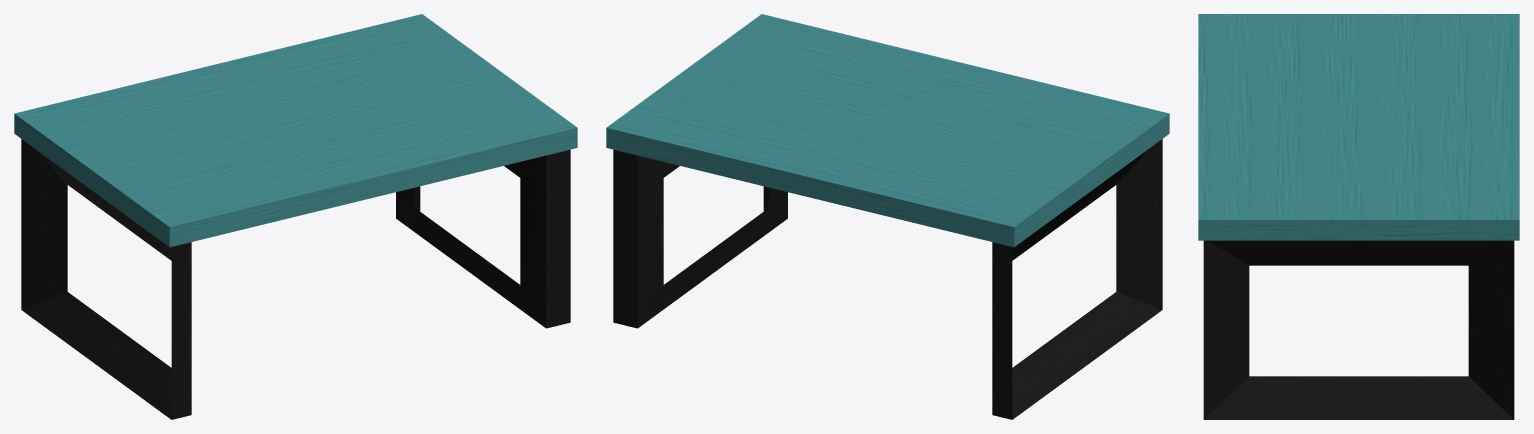
File: Desk_C.FBX
3 renders of one model, left to right at view 1: azimuth 30°, elevation 25°; view 2: azimuth 150°, elevation 25°; view 3: azimuth 270°, elevation 25°, orthographic. The views are drawn at different scales.
Parts seen in each view (by area): view 1: Desk; view 2: Desk; view 3: Desk.
Boxes of the visible parts, x1=… form: Desk: x1=14, y1=14, x2=577, y2=419; Desk: x1=606, y1=14, x2=1169, y2=419; Desk: x1=1198, y1=14, x2=1519, y2=419.
Bounding box in the file's own units: 215 × 98.47 × 142.
